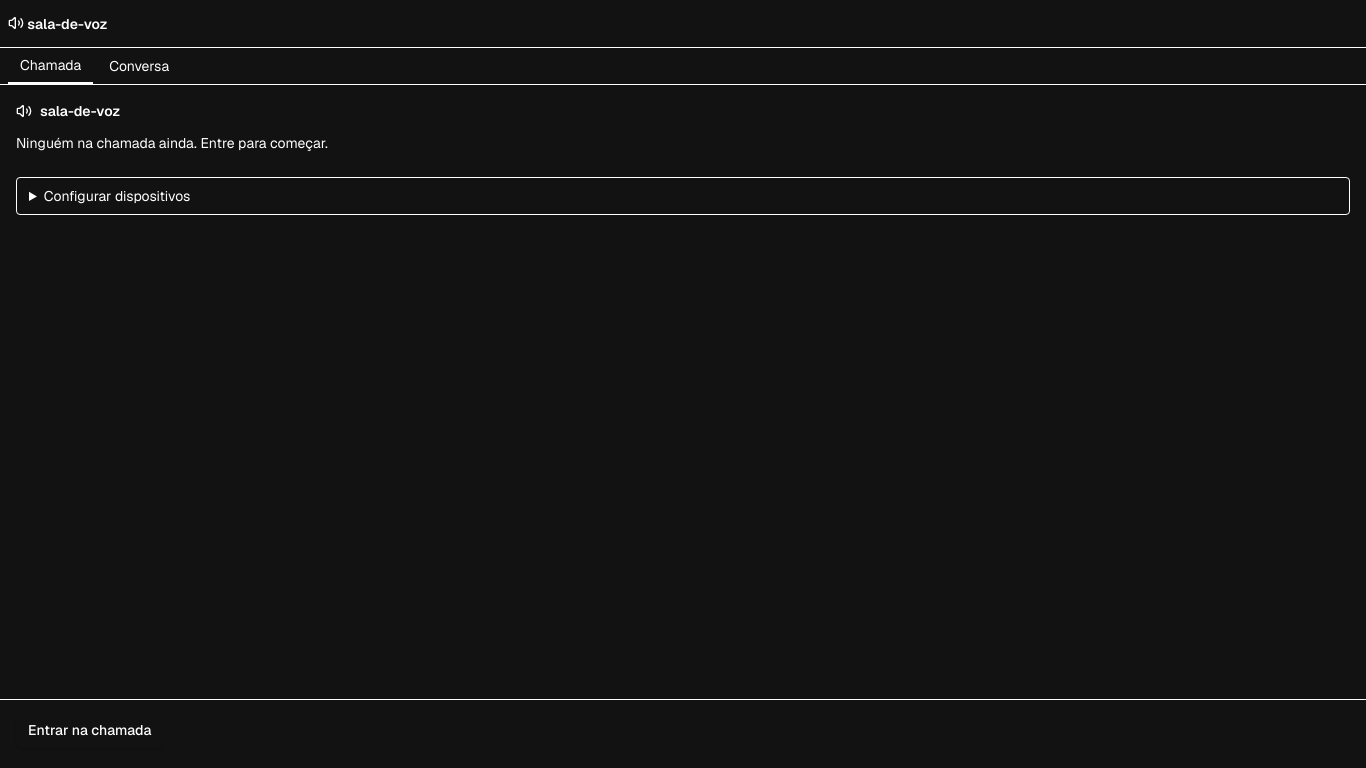
Test case: conversa num canal de voz › a aba de conversa troca o palco pelo histórico
Click the tab "conversa". click: x=139, y=66
box: [97,48,181,84]
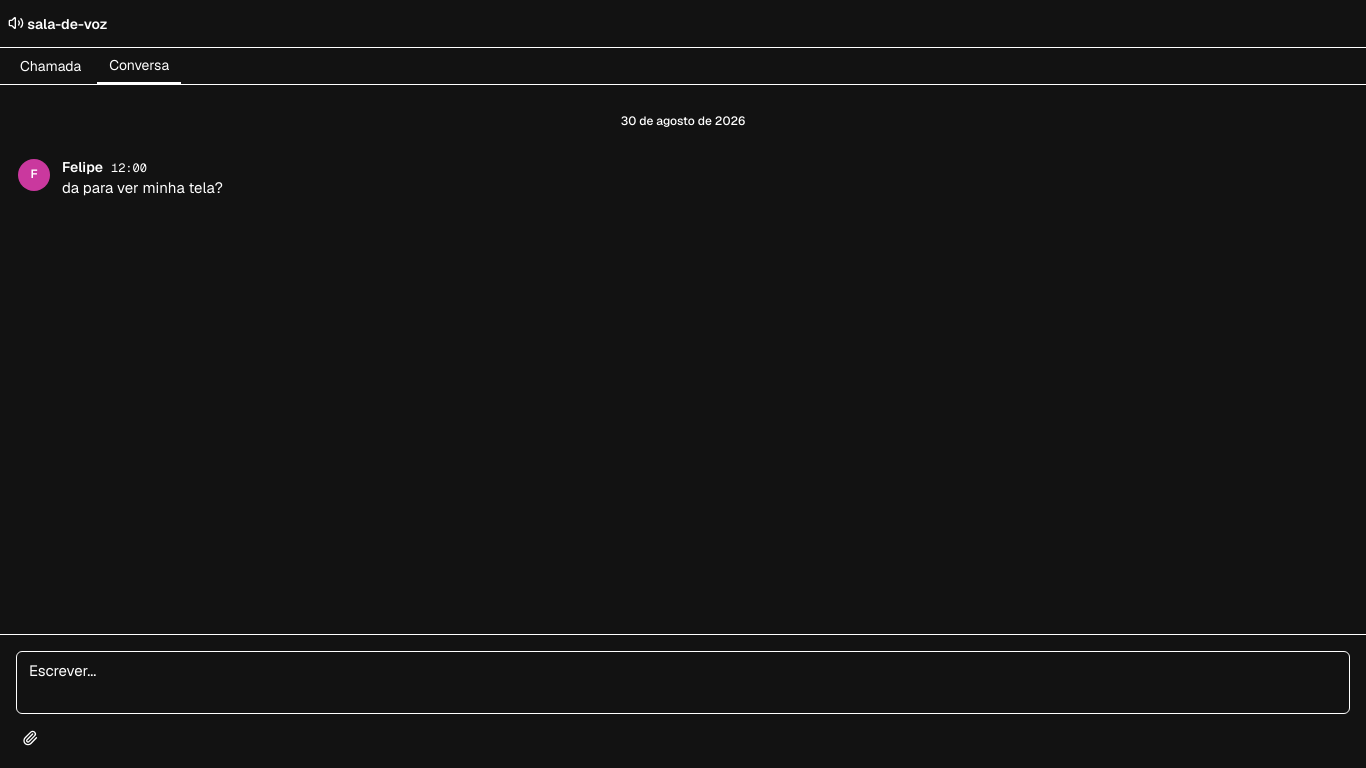
expect the text "da para ver minha tela?" is shown: met, box [62,178,223,197]
